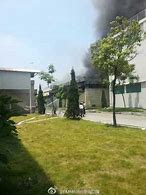smoke: (82, 1, 127, 81)
